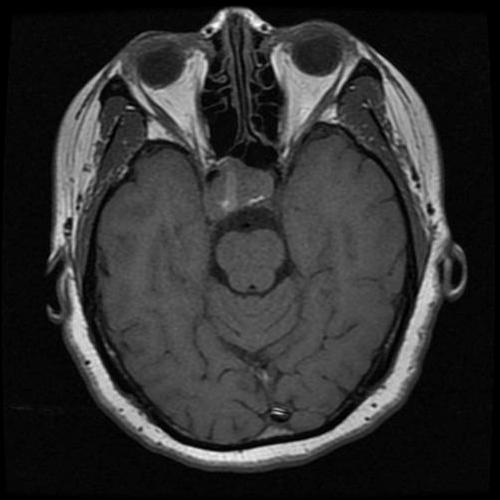Tumour-Pituitary: (192, 155, 297, 217)
